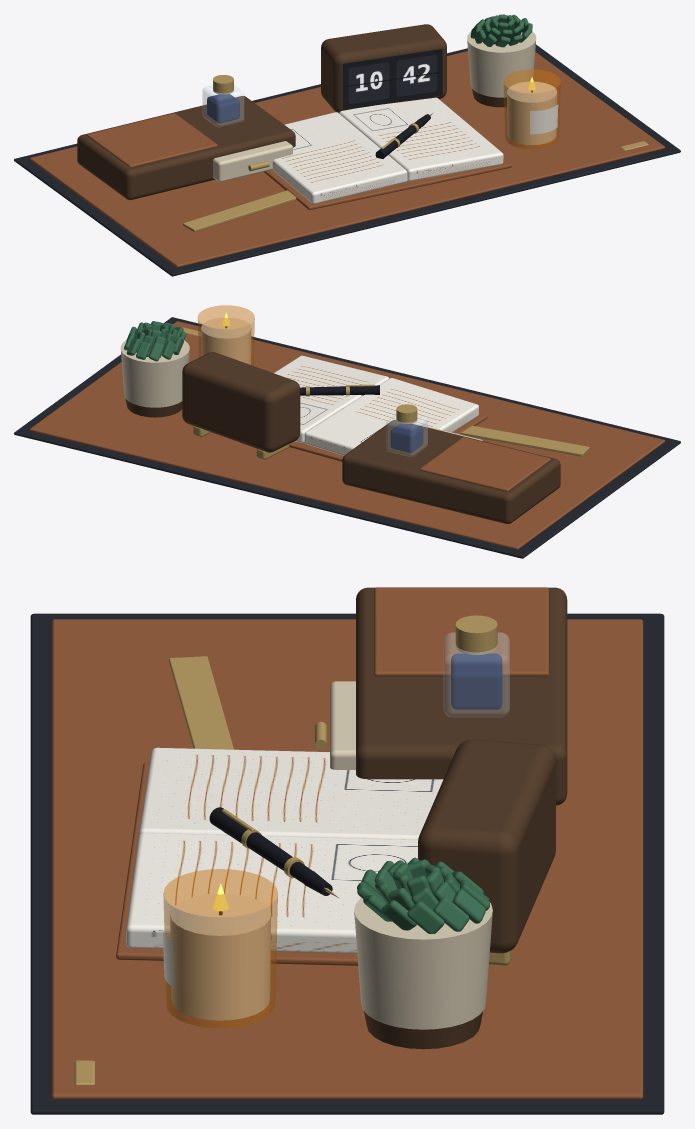
Rendered from atelier-decor-stationery-heritage.glb.
3 views of the same model, one above another, from view 1: azimuth 30°, elevation 25°; view 2: azimuth 150°, elevation 25°; view 3: azimuth 270°, elevation 25° (orthographic). The views are drawn at different scales.
Bounding box in the file's own units: 0.78 × 0.1226 × 0.4201.
Materials: 15 (2 with a texture image).
